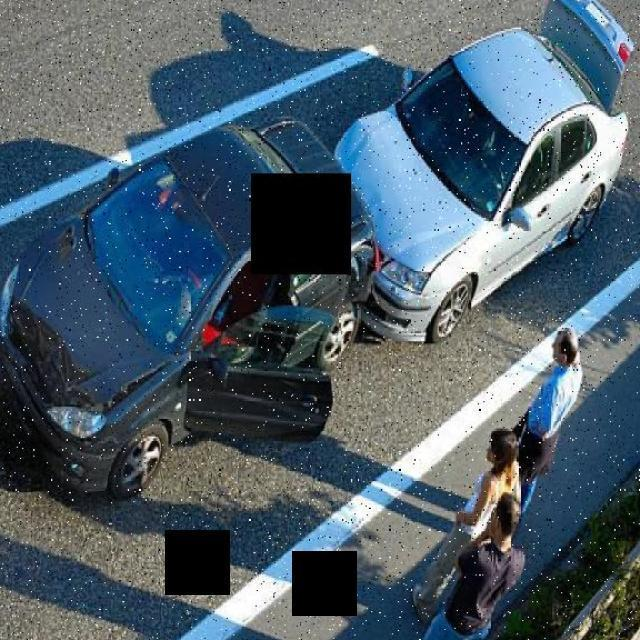car Accident: (72, 30, 621, 449)
